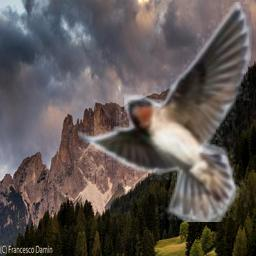Swallow: (78, 2, 252, 222)
